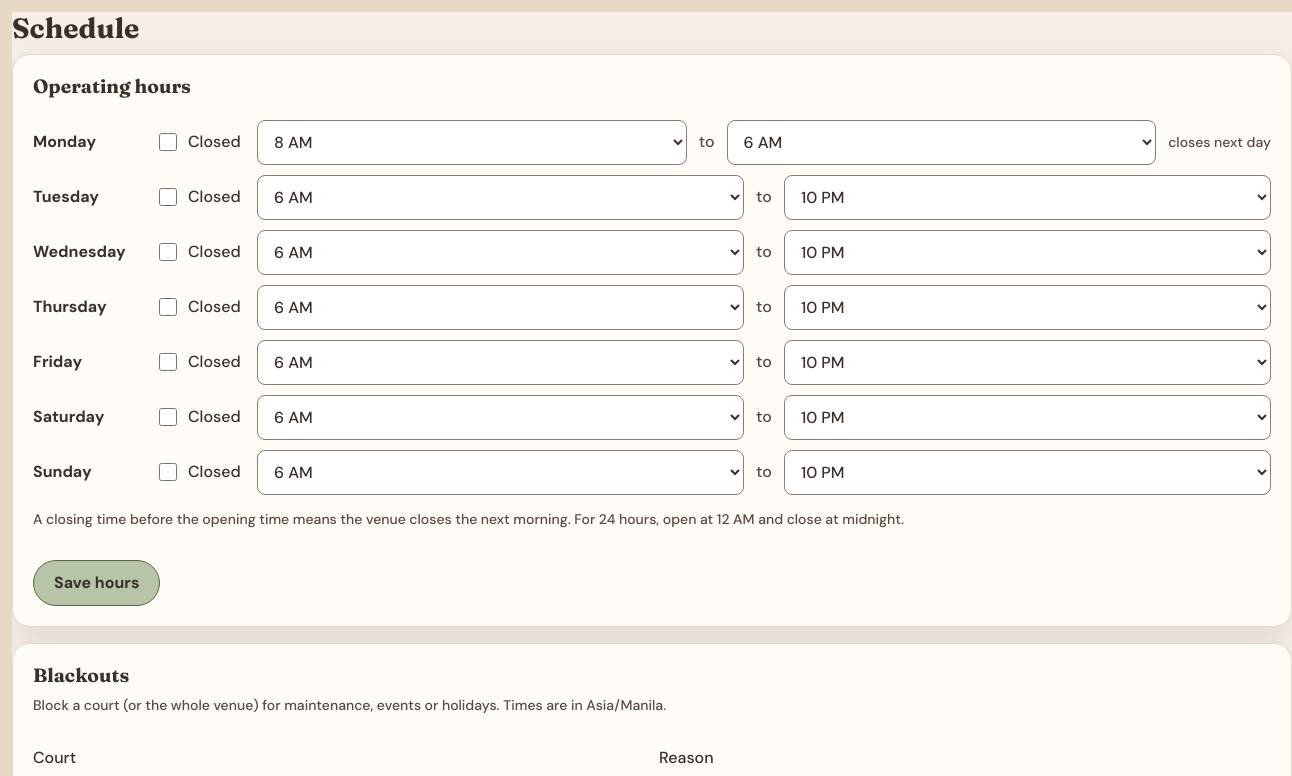
SchedulePage operating hours › stops a day running into the next day's opening before saving
The image size is (1292, 776).
Expected: the text "closes next day" is shown, [1168,132,1271,153]
Select "7 AM" in the dropdown named "Monday closes": [941, 142] box [726,120,1156,165]
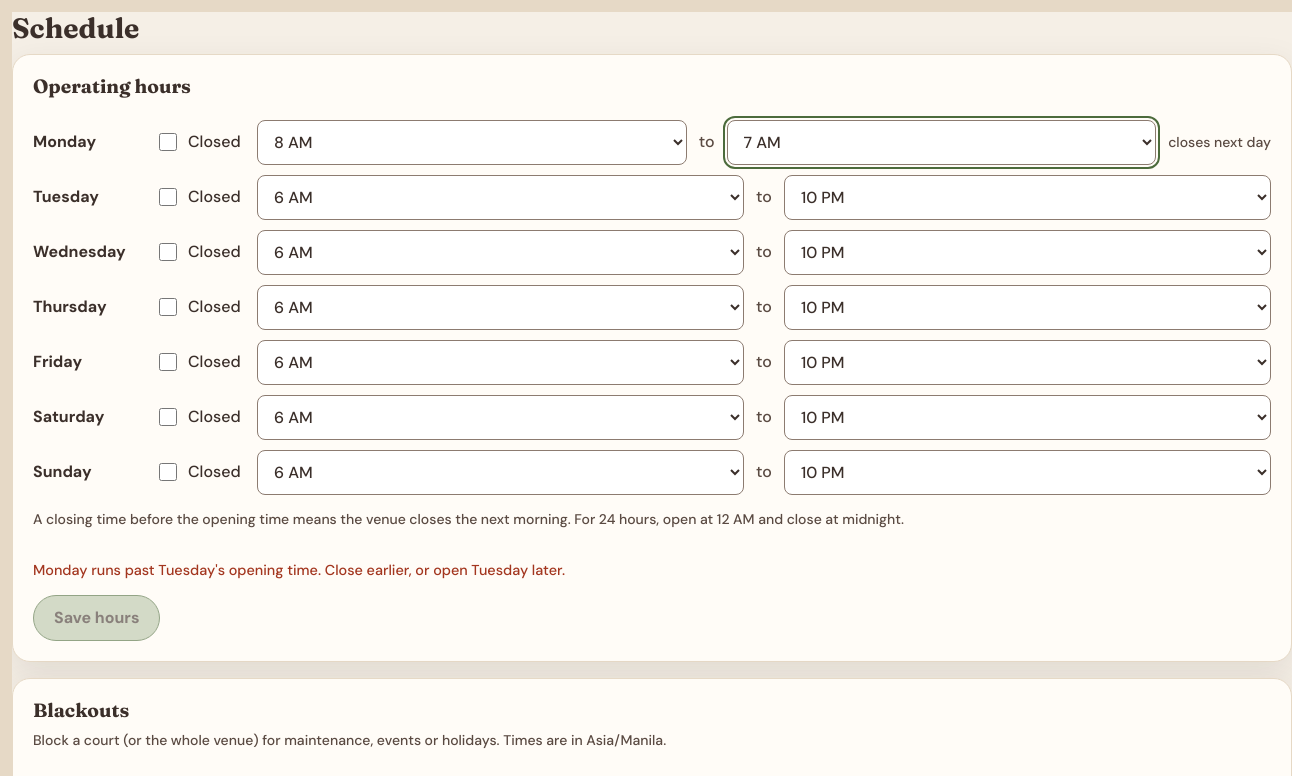
Expected: the message shows "Monday runs past Tuesday's opening time.", [33,561,565,579]
Expected: the button "Save hours" is disabled, [33,595,160,641]
Select "7 AM" in the dropdown named "Tuesday opens": [501, 197] box [257,175,744,220]
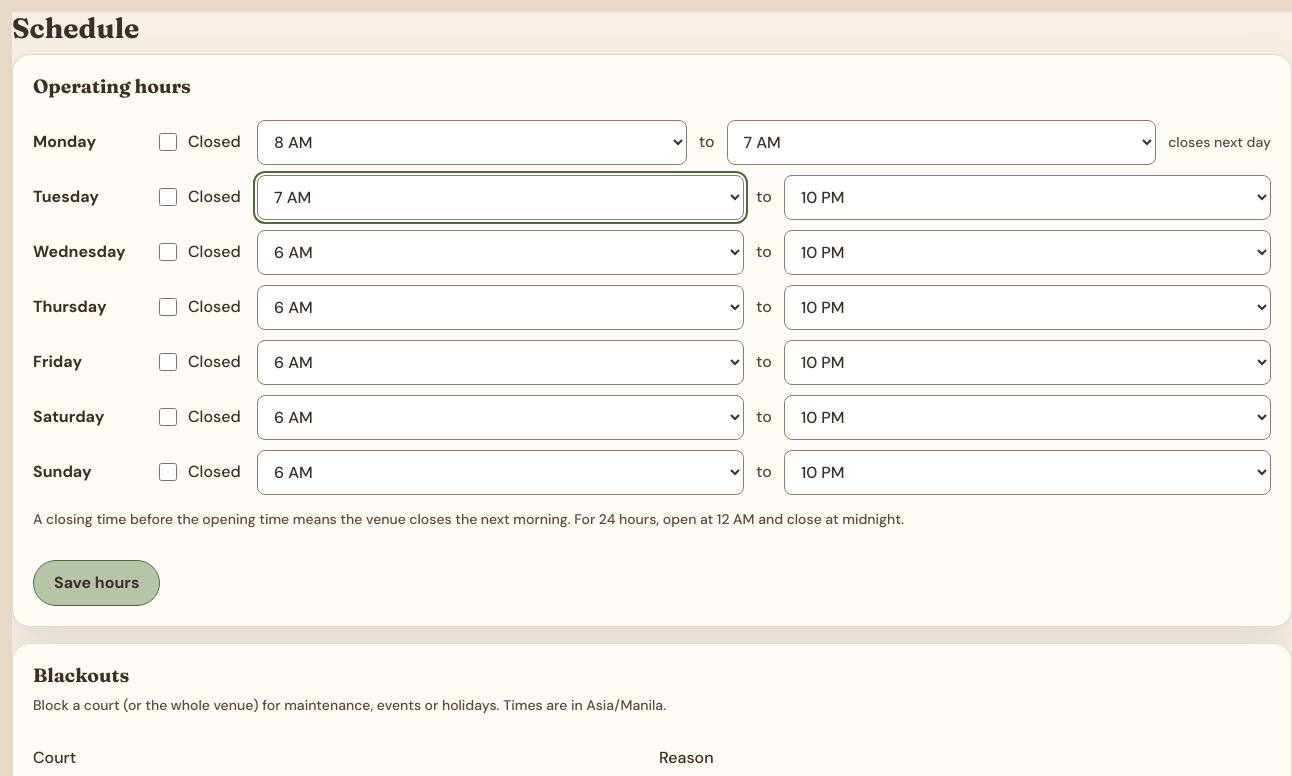
Expected: the message "Monday runs past Tuesday's opening time. Close earlier, or open Tuesday later." is gone
Expected: the button "Save hours" is enabled, [33,560,160,606]
